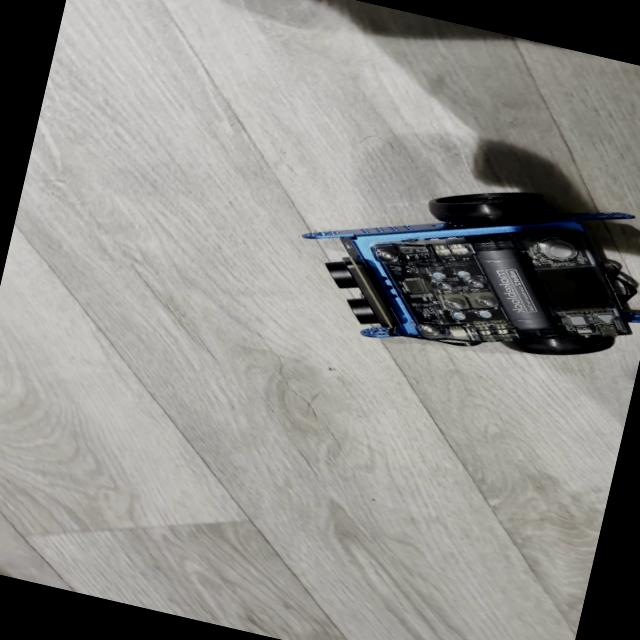mbot-detection: (270, 135, 640, 404)
